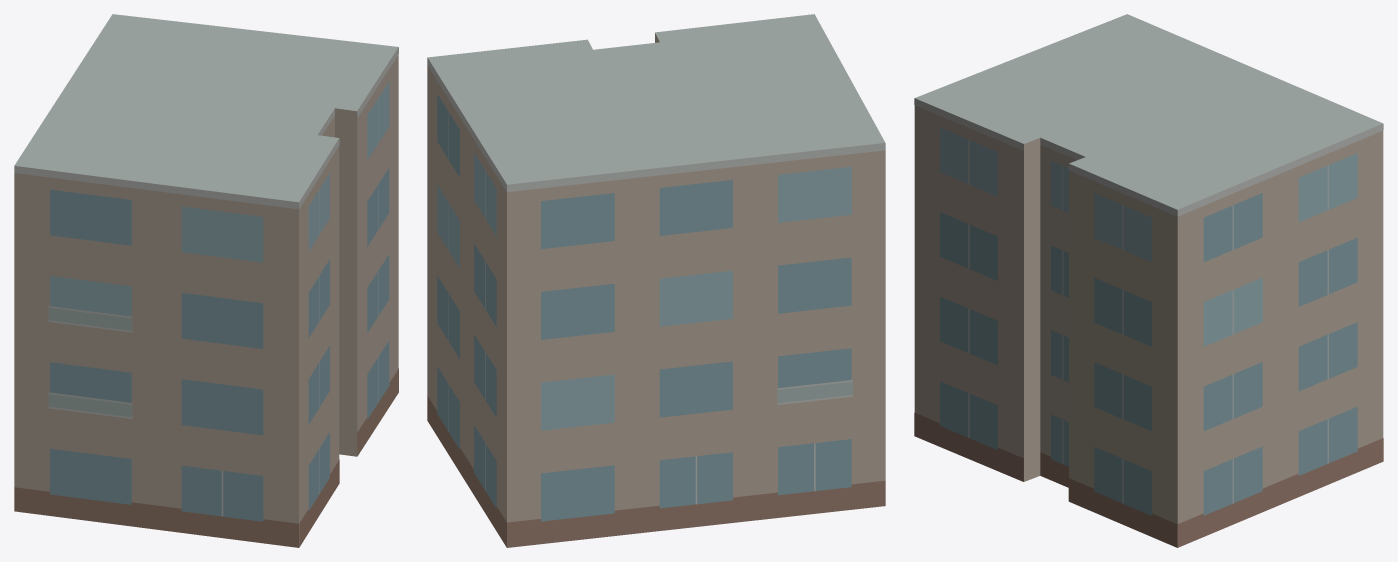
Rendered from survey-upis-32754644.glb.
The picture shows the model from 3 angles, left to right: view 1: azimuth 30°, elevation 25°; view 2: azimuth 150°, elevation 25°; view 3: azimuth 270°, elevation 25°; orthographic projection. The views are drawn at different scales.
Visible parts, largest first — view 1: survey-upis-32754644.tmp; view 2: survey-upis-32754644.tmp; view 3: survey-upis-32754644.tmp.
Part boxes in pixels (x1=…): survey-upis-32754644.tmp: x1=14, y1=14, x2=398, y2=547; survey-upis-32754644.tmp: x1=427, y1=14, x2=885, y2=547; survey-upis-32754644.tmp: x1=914, y1=14, x2=1383, y2=547.
Bounding box in the file's own units: 14.73 × 11.85 × 14.9.
